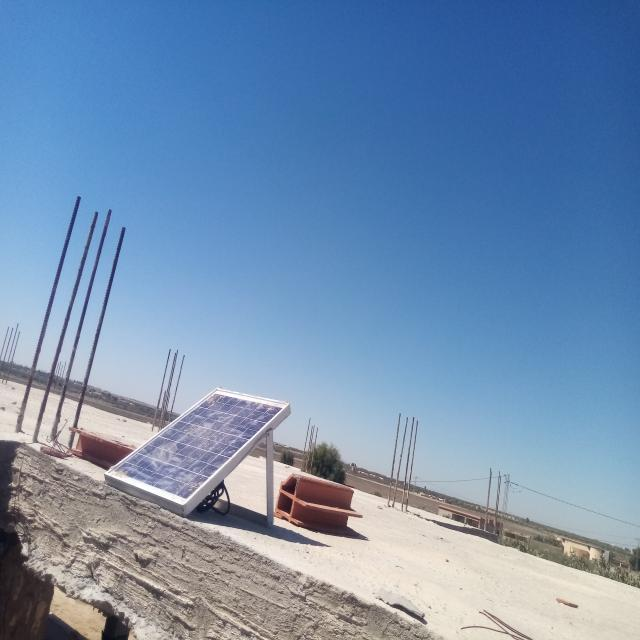faulty: (105, 389, 288, 506)
